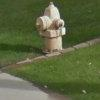Hydrant: (31, 2, 77, 52)
